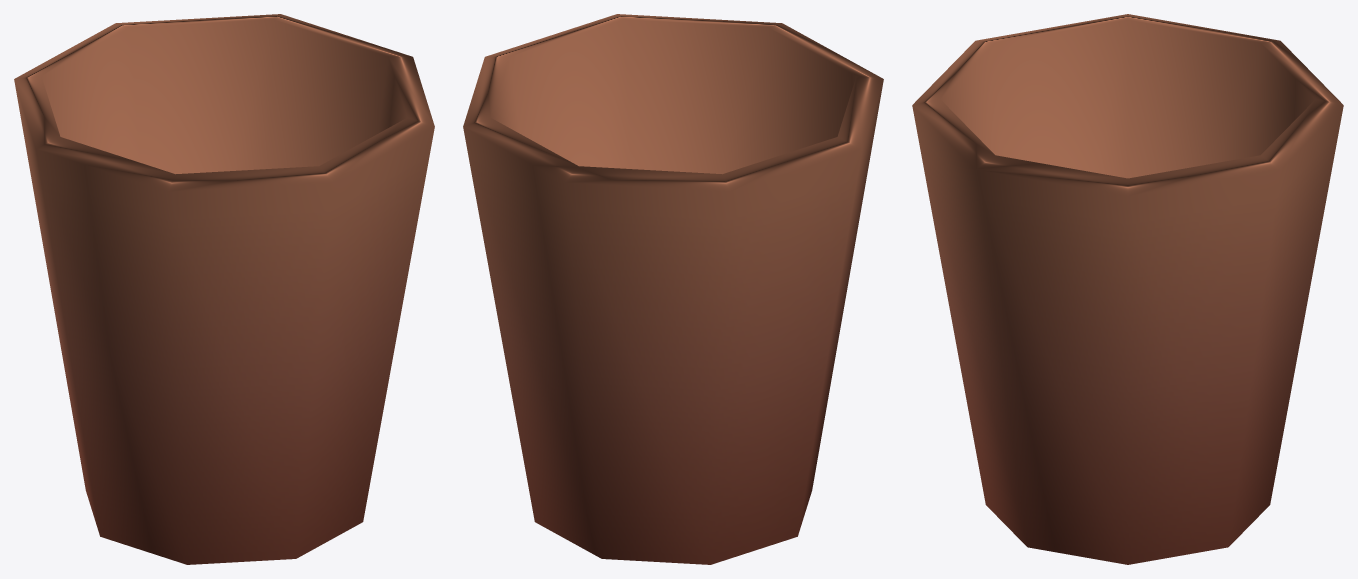
Rendered from Claypot02.fbx.
3 renders of one model, left to right at view 1: azimuth 30°, elevation 25°; view 2: azimuth 150°, elevation 25°; view 3: azimuth 270°, elevation 25°, orthographic.
Visible parts, largest first — view 1: Claypot02; view 2: Claypot02; view 3: Claypot02.
Boxes of the visible parts, <box> form: Claypot02: <box>14,14,434,564</box>; Claypot02: <box>463,14,883,564</box>; Claypot02: <box>912,14,1343,564</box>.
Size of the model in its own units: 0.4298 by 0.4457 by 0.4298.
1 material, 1 textured.
